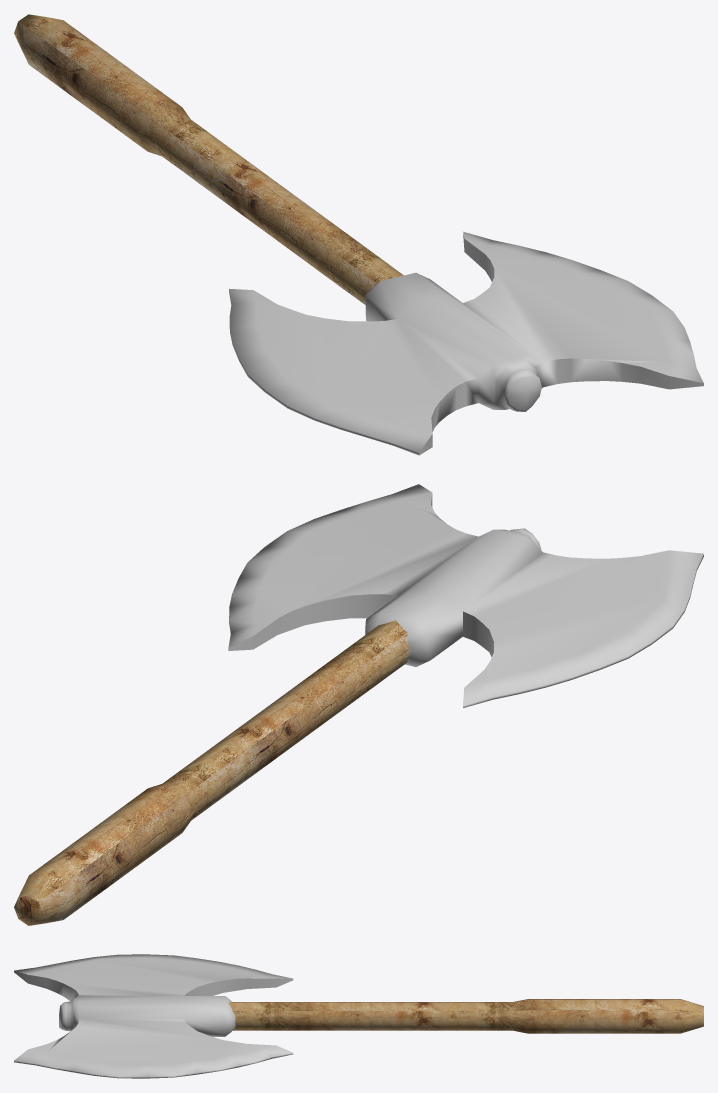
Rendered from 2h_axe.fbx.
3 renders of one model, top to bottom at view 1: azimuth 30°, elevation 25°; view 2: azimuth 150°, elevation 25°; view 3: azimuth 270°, elevation 25°, orthographic. The views are drawn at different scales.
Visible parts, largest first — view 1: object; view 2: object; view 3: object.
Part boxes in pixels (x1=…): object: x1=14, y1=14, x2=703, y2=455; object: x1=14, y1=484, x2=703, y2=925; object: x1=14, y1=954, x2=703, y2=1078.
Size of the model in its own units: 103 by 13.01 by 246.
